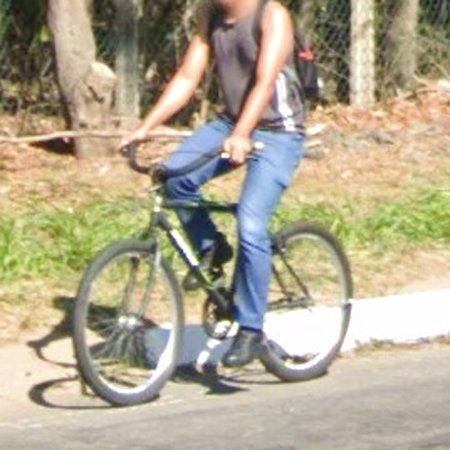bicycles: (73, 142, 238, 406), (261, 223, 353, 382)
